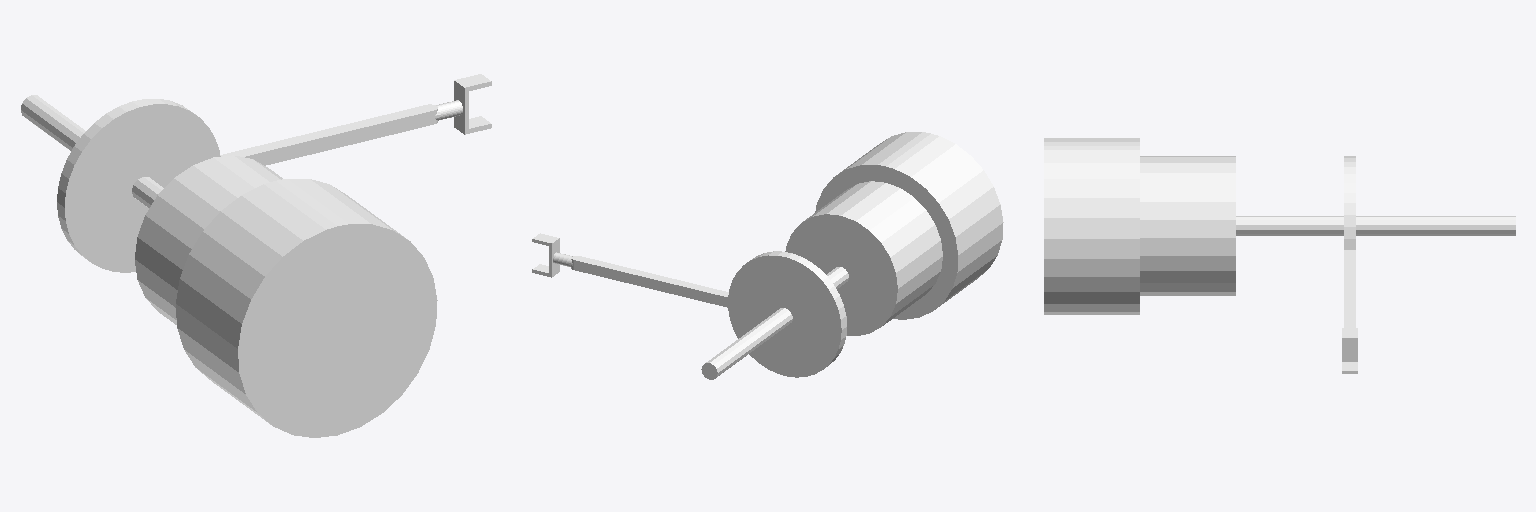
URDF robot description (my_arm):
<?xml version="1.0" encoding="utf-8"?>
<!-- This URDF was automatically created by SolidWorks to URDF Exporter! Originally created by [author] ([email redacted]) 
     Commit Version: 1.5.1-0-g916b5db  Build Version: 1.5.7152.31018
     For more information, please see http://wiki.ros.org/sw_urdf_exporter -->
<robot
  name="my_arm">
  <link
    name="base_link">
    <inertial>
      <origin
        xyz="-1.6373E-33 0.10548 -1.897E-18"
        rpy="0 0 0" />
      <mass
        value="61.792" />
      <inertia
        ixx="2.3205"
        ixy="-9.4162E-35"
        ixz="-9.03E-33"
        iyy="1.278"
        iyz="-2.2122E-16"
        izz="2.3205" />
    </inertial>
    <visual>
      <origin
        xyz="0 0 0"
        rpy="0 0 0" />
      <geometry>
        <mesh
          filename="package://my_arm/meshes/base_link.STL" />
      </geometry>
      <material
        name="">
        <color
          rgba="1 1 1 1" />
      </material>
    </visual>
    <collision>
      <origin
        xyz="0 0 0"
        rpy="0 0 0" />
      <geometry>
        <mesh
          filename="package://my_arm/meshes/base_link.STL" />
      </geometry>
    </collision>
  </link>
  <link
    name="link_1">
    <inertial>
      <origin
        xyz="0.0076622 -1.1102E-16 -1.7126E-18"
        rpy="0 0 0" />
      <mass
        value="2.8675" />
      <inertia
        ixx="0.022307"
        ixy="-2.791E-20"
        ixz="-1.4455E-19"
        iyy="0.045723"
        iyz="2.3605E-35"
        izz="0.023846" />
    </inertial>
    <visual>
      <origin
        xyz="0 0 0"
        rpy="0 0 0" />
      <geometry>
        <mesh
          filename="package://my_arm/meshes/link_1.STL" />
      </geometry>
      <material
        name="">
        <color
          rgba="1 1 1 1" />
      </material>
    </visual>
    <collision>
      <origin
        xyz="0 0 0"
        rpy="0 0 0" />
      <geometry>
        <mesh
          filename="package://my_arm/meshes/link_1.STL" />
      </geometry>
    </collision>
  </link>
  <joint
    name="joint_1"
    type="prismatic">
    <origin
      xyz="-0.0049087 0.645 0"
      rpy="0 0 0" />
    <parent
      link="base_link" />
    <child
      link="link_1" />
    <axis
      xyz="0 1 0" />
    <limit
      lower="0"
      upper="0.25"
      effort="0"
      velocity="0" />
  </joint>
  <link
    name="link_2">
    <inertial>
      <origin
        xyz="0.129549296585514 -1.11022302462516E-16 5.92442601644316E-18"
        rpy="0 0 0" />
      <mass
        value="0.237205750411731" />
      <inertia
        ixx="3.51832547415397E-05"
        ixy="1.32137843238698E-20"
        ixz="-1.38141671631462E-21"
        iyy="0.00139354606067047"
        iyz="8.47032947254301E-22"
        izz="0.00139314845285025" />
    </inertial>
    <visual>
      <origin
        xyz="0 0 0"
        rpy="0 0 0" />
      <geometry>
        <mesh
          filename="package://my_arm/meshes/link_2.STL" />
      </geometry>
      <material
        name="">
        <color
          rgba="1 1 1 1" />
      </material>
    </visual>
    <collision>
      <origin
        xyz="0 0 0"
        rpy="0 0 0" />
      <geometry>
        <mesh
          filename="package://my_arm/meshes/link_2.STL" />
      </geometry>
    </collision>
  </link>
  <joint
    name="joint_2"
    type="revolute">
    <origin
      xyz="0.20286 0 0"
      rpy="0 0 0" />
    <parent
      link="link_1" />
    <child
      link="link_2" />
    <axis
      xyz="0 0 -1" />
    <limit
      lower="-2.96"
      upper="2.96"
      effort="0"
      velocity="0" />
  </joint>
  <link
    name="link_3">
    <inertial>
      <origin
        xyz="0.110437195551162 -3.03292391201637E-09 3.02405518343957E-09"
        rpy="0 0 0" />
      <mass
        value="0.202807656870117" />
      <inertia
        ixx="3.00310414455542E-05"
        ixy="6.37839862086387E-11"
        ixz="-7.74984844037195E-11"
        iyy="0.00087548730391964"
        iyz="2.17857153122399E-10"
        izz="0.000875225249912357" />
    </inertial>
    <visual>
      <origin
        xyz="0 0 0"
        rpy="0 0 0" />
      <geometry>
        <mesh
          filename="package://my_arm/meshes/link_3.STL" />
      </geometry>
      <material
        name="">
        <color
          rgba="1 1 1 1" />
      </material>
    </visual>
    <collision>
      <origin
        xyz="0 0 0"
        rpy="0 0 0" />
      <geometry>
        <mesh
          filename="package://my_arm/meshes/link_3.STL" />
      </geometry>
    </collision>
  </link>
  <joint
    name="joint_3"
    type="revolute">
    <origin
      xyz="0.24 0 0"
      rpy="0 0 0" />
    <parent
      link="link_2" />
    <child
      link="link_3" />
    <axis
      xyz="0 0 1" />
    <limit
      lower="-2.96"
      upper="2.96"
      effort="0"
      velocity="0" />
  </joint>
  <link
    name="link_4">
    <inertial>
      <origin
        xyz="0 0 -9.54168519270915E-20"
        rpy="0 0 0" />
      <mass
        value="0.0353429173528852" />
      <inertia
        ixx="3.97607820219959E-06"
        ixy="3.52930394689292E-22"
        ixz="-4.41162993361615E-23"
        iyy="9.35114688295089E-06"
        iyz="5.23881054616918E-23"
        izz="9.35114688295089E-06" />
    </inertial>
    <visual>
      <origin
        xyz="0 0 0"
        rpy="0 0 0" />
      <geometry>
        <mesh
          filename="package://my_arm/meshes/link_4.STL" />
      </geometry>
      <material
        name="">
        <color
          rgba="1 1 1 1" />
      </material>
    </visual>
    <collision>
      <origin
        xyz="0 0 0"
        rpy="0 0 0" />
      <geometry>
        <mesh
          filename="package://my_arm/meshes/link_4.STL" />
      </geometry>
    </collision>
  </link>
  <joint
    name="joint_4"
    type="revolute">
    <origin
      xyz="0.24955 0 0"
      rpy="0 0 0" />
    <parent
      link="link_3" />
    <child
      link="link_4" />
    <axis
      xyz="1 0 0" />
    <limit
      lower="-2.96"
      upper="2.96"
      effort="0"
      velocity="0" />
  </joint>
  <link
    name="link_hand">
    <inertial>
      <origin
        xyz="-0.04 0 -0.00025263"
        rpy="0 0 0" />
      <mass
        value="0.08" />
      <inertia
        ixx="0.00012533"
        ixy="1.0538E-20"
        ixz="3.0316E-07"
        iyy="0.00014133"
        iyz="-1.7433E-20"
        izz="3.7333E-05" />
    </inertial>
    <visual>
      <origin
        xyz="0 0 0"
        rpy="0 0 0" />
      <geometry>
        <mesh
          filename="package://my_arm/meshes/link_hand.STL" />
      </geometry>
      <material
        name="">
        <color
          rgba="1 1 1 1" />
      </material>
    </visual>
    <collision>
      <origin
        xyz="0 0 0"
        rpy="0 0 0" />
      <geometry>
        <mesh
          filename="package://my_arm/meshes/link_hand.STL" />
      </geometry>
    </collision>
  </link>
  <joint
    name="joint_hand"
    type="fixed">
    <origin
      xyz="0.085 0 0"
      rpy="0 0 0" />
    <parent
      link="link_4" />
    <child
      link="link_hand" />
    <axis
      xyz="0 0 0" />
  </joint>
</robot>

--- Render facts (derived) ---
Views: 3 orthographic renders of the robot side by side, from view 1: azimuth 30°, elevation 25°; view 2: azimuth 150°, elevation 25°; view 3: azimuth 270°, elevation 25°.
Model my_arm with 6 links and 5 joints (3 revolute, 1 prismatic, 1 fixed), rooted at base_link, posed all joints at 0.
Links seen in each view (by area): view 1: base_link, link_1, link_3, link_2, link_hand; view 2: base_link, link_1, link_2, link_3, link_hand; view 3: base_link, link_1, link_hand.
Boxes of the visible links, bbox=[...] form: base_link: bbox=[21, 95, 437, 437]; link_1: bbox=[57, 99, 239, 272]; link_3: bbox=[333, 104, 440, 145]; link_2: bbox=[231, 126, 345, 165]; link_hand: bbox=[454, 74, 491, 134]; base_link: bbox=[701, 132, 1003, 379]; link_1: bbox=[715, 251, 846, 377]; link_2: bbox=[636, 271, 724, 304]; link_3: bbox=[569, 256, 646, 285]; link_hand: bbox=[532, 233, 559, 277]; base_link: bbox=[1044, 138, 1515, 314]; link_1: bbox=[1344, 156, 1355, 254]; link_hand: bbox=[1342, 328, 1357, 373].
Bounding box of the posed robot: 0.9946 × 1.18 × 0.445 m (x, y, z).
Meshes: 6 distinct files referenced, 6 mesh visuals loaded (6 binary STL).